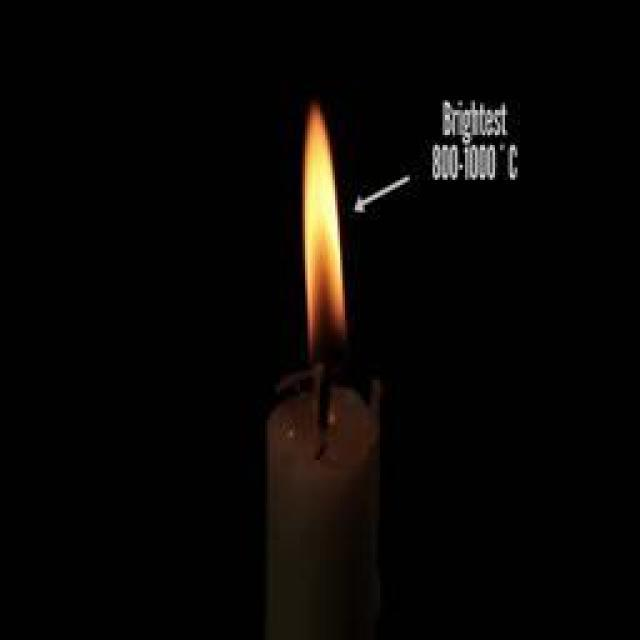Fire: (300, 110, 345, 342)
